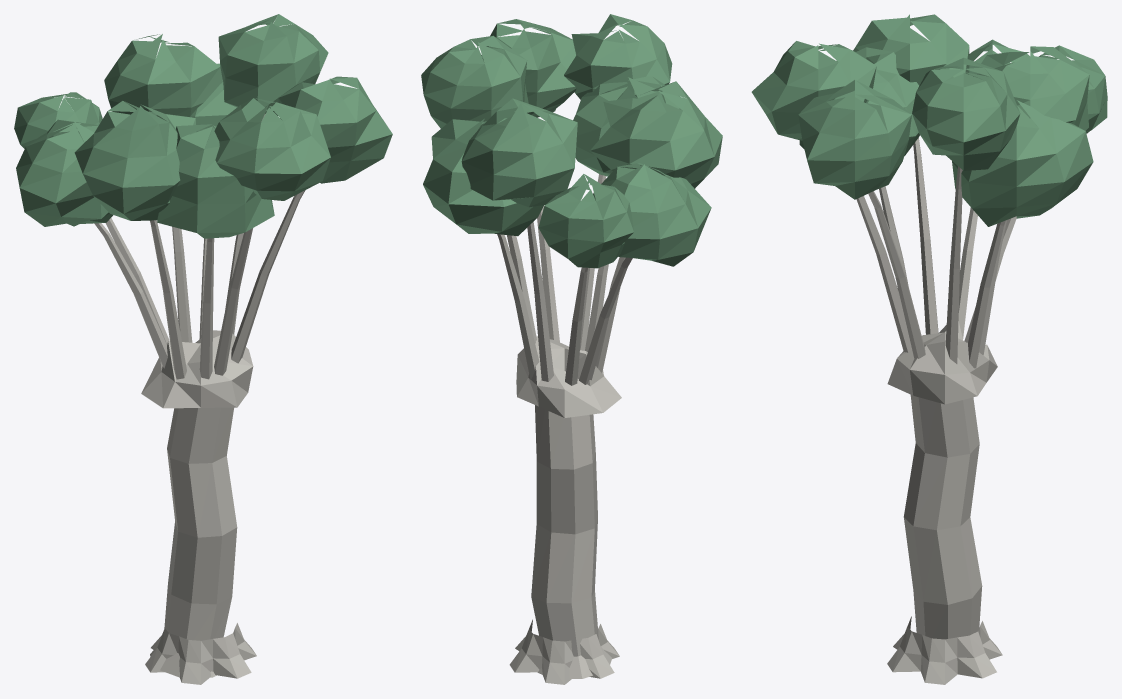
File: temperate-forest-ecology-hornbeam-pollard-8dbd0e4d__3800.glb
3 renders of one model, left to right at view 1: azimuth 30°, elevation 25°; view 2: azimuth 150°, elevation 25°; view 3: azimuth 270°, elevation 25°, orthographic. The views are drawn at different scales.
Visible parts, largest first — view 1: hornbeam-pollard; view 2: hornbeam-pollard; view 3: hornbeam-pollard.
Part boxes in pixels (<box>): hornbeam-pollard: <box>14,14,392,684</box>; hornbeam-pollard: <box>421,14,722,684</box>; hornbeam-pollard: <box>751,14,1107,684</box>.
Size of the model in its own units: 3.34 by 6.68 by 3.38.
